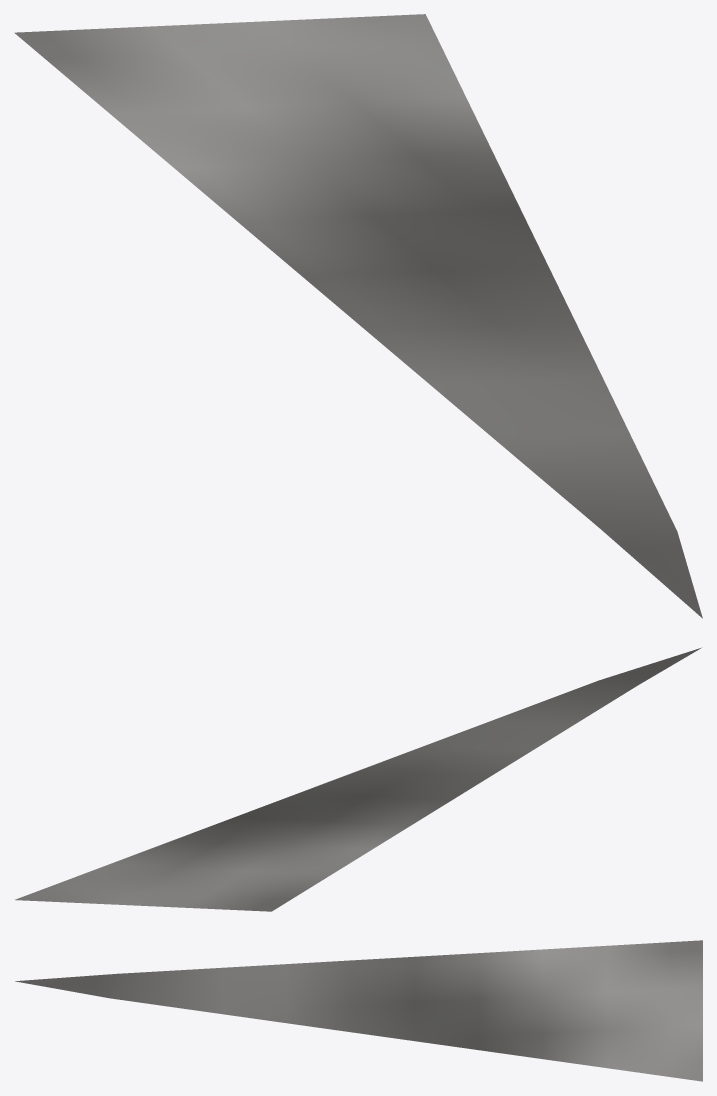
The picture shows the model from 3 angles, top to bottom: view 1: azimuth 30°, elevation 25°; view 2: azimuth 150°, elevation 25°; view 3: azimuth 270°, elevation 25°; orthographic projection. The views are drawn at different scales.
Bounding box in the file's own units: 0.0119 × 0.00226 × 0.0344.
1 material, 1 textured.
